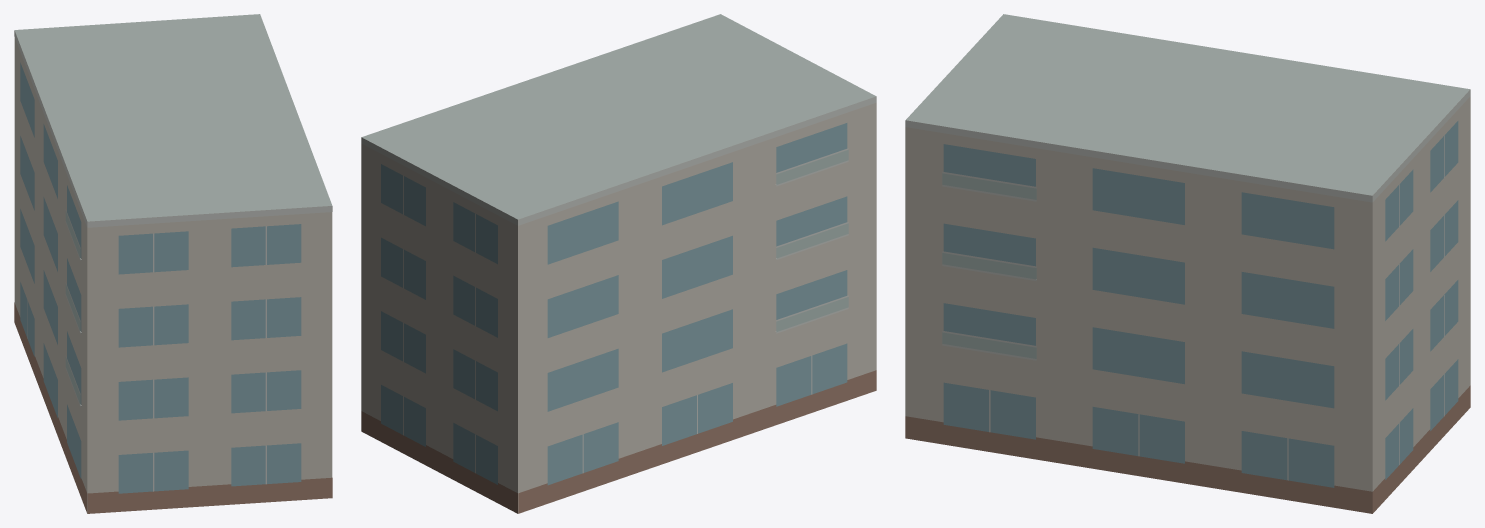
Rendered from survey-upis-32878363.glb.
The picture shows the model from 3 angles, left to right: view 1: azimuth 30°, elevation 25°; view 2: azimuth 150°, elevation 25°; view 3: azimuth 270°, elevation 25°; orthographic projection. The views are drawn at different scales.
Visible parts, largest first — view 1: survey-upis-32878363.tmp; view 2: survey-upis-32878363.tmp; view 3: survey-upis-32878363.tmp.
Boxes of the visible parts, x1,y1,x2,y2 form: survey-upis-32878363.tmp: (14,14,332,513); survey-upis-32878363.tmp: (361,14,876,513); survey-upis-32878363.tmp: (905,14,1470,513).
Size of the model in its own units: 14.1 by 11.5 by 18.53.
